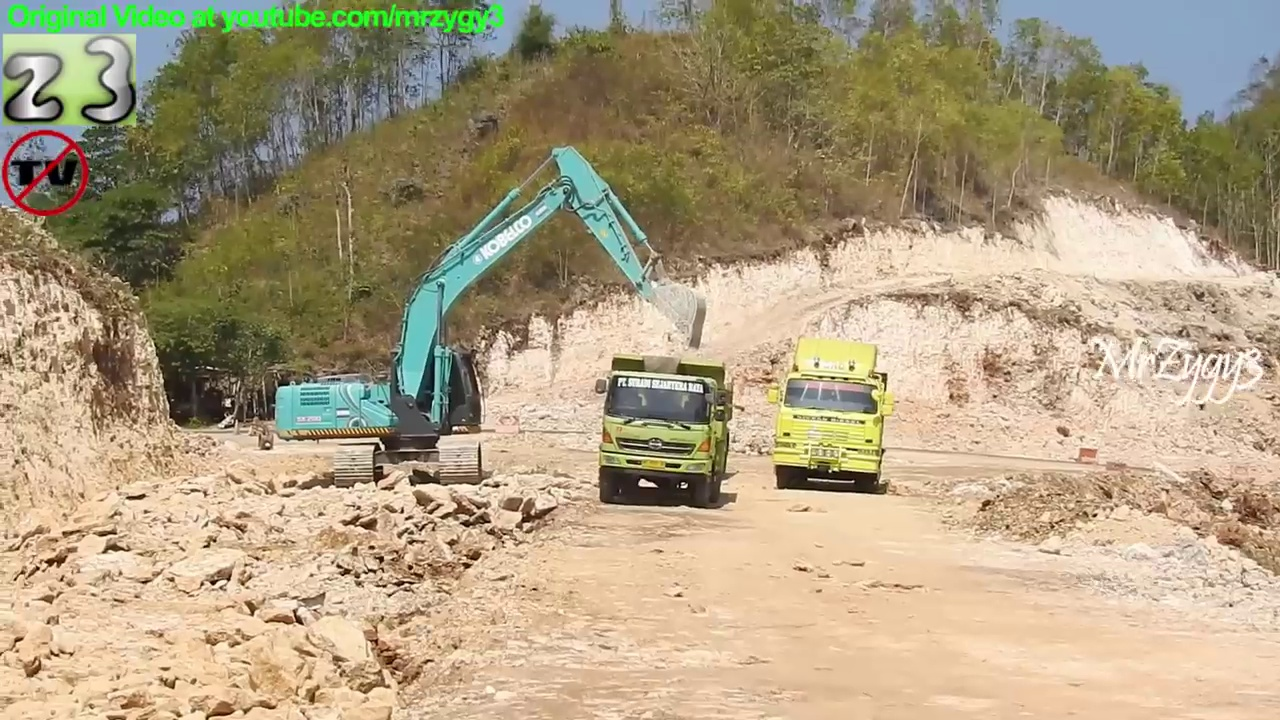excavator: (271, 143, 710, 489)
truck: (592, 350, 738, 512), (764, 334, 892, 499)
